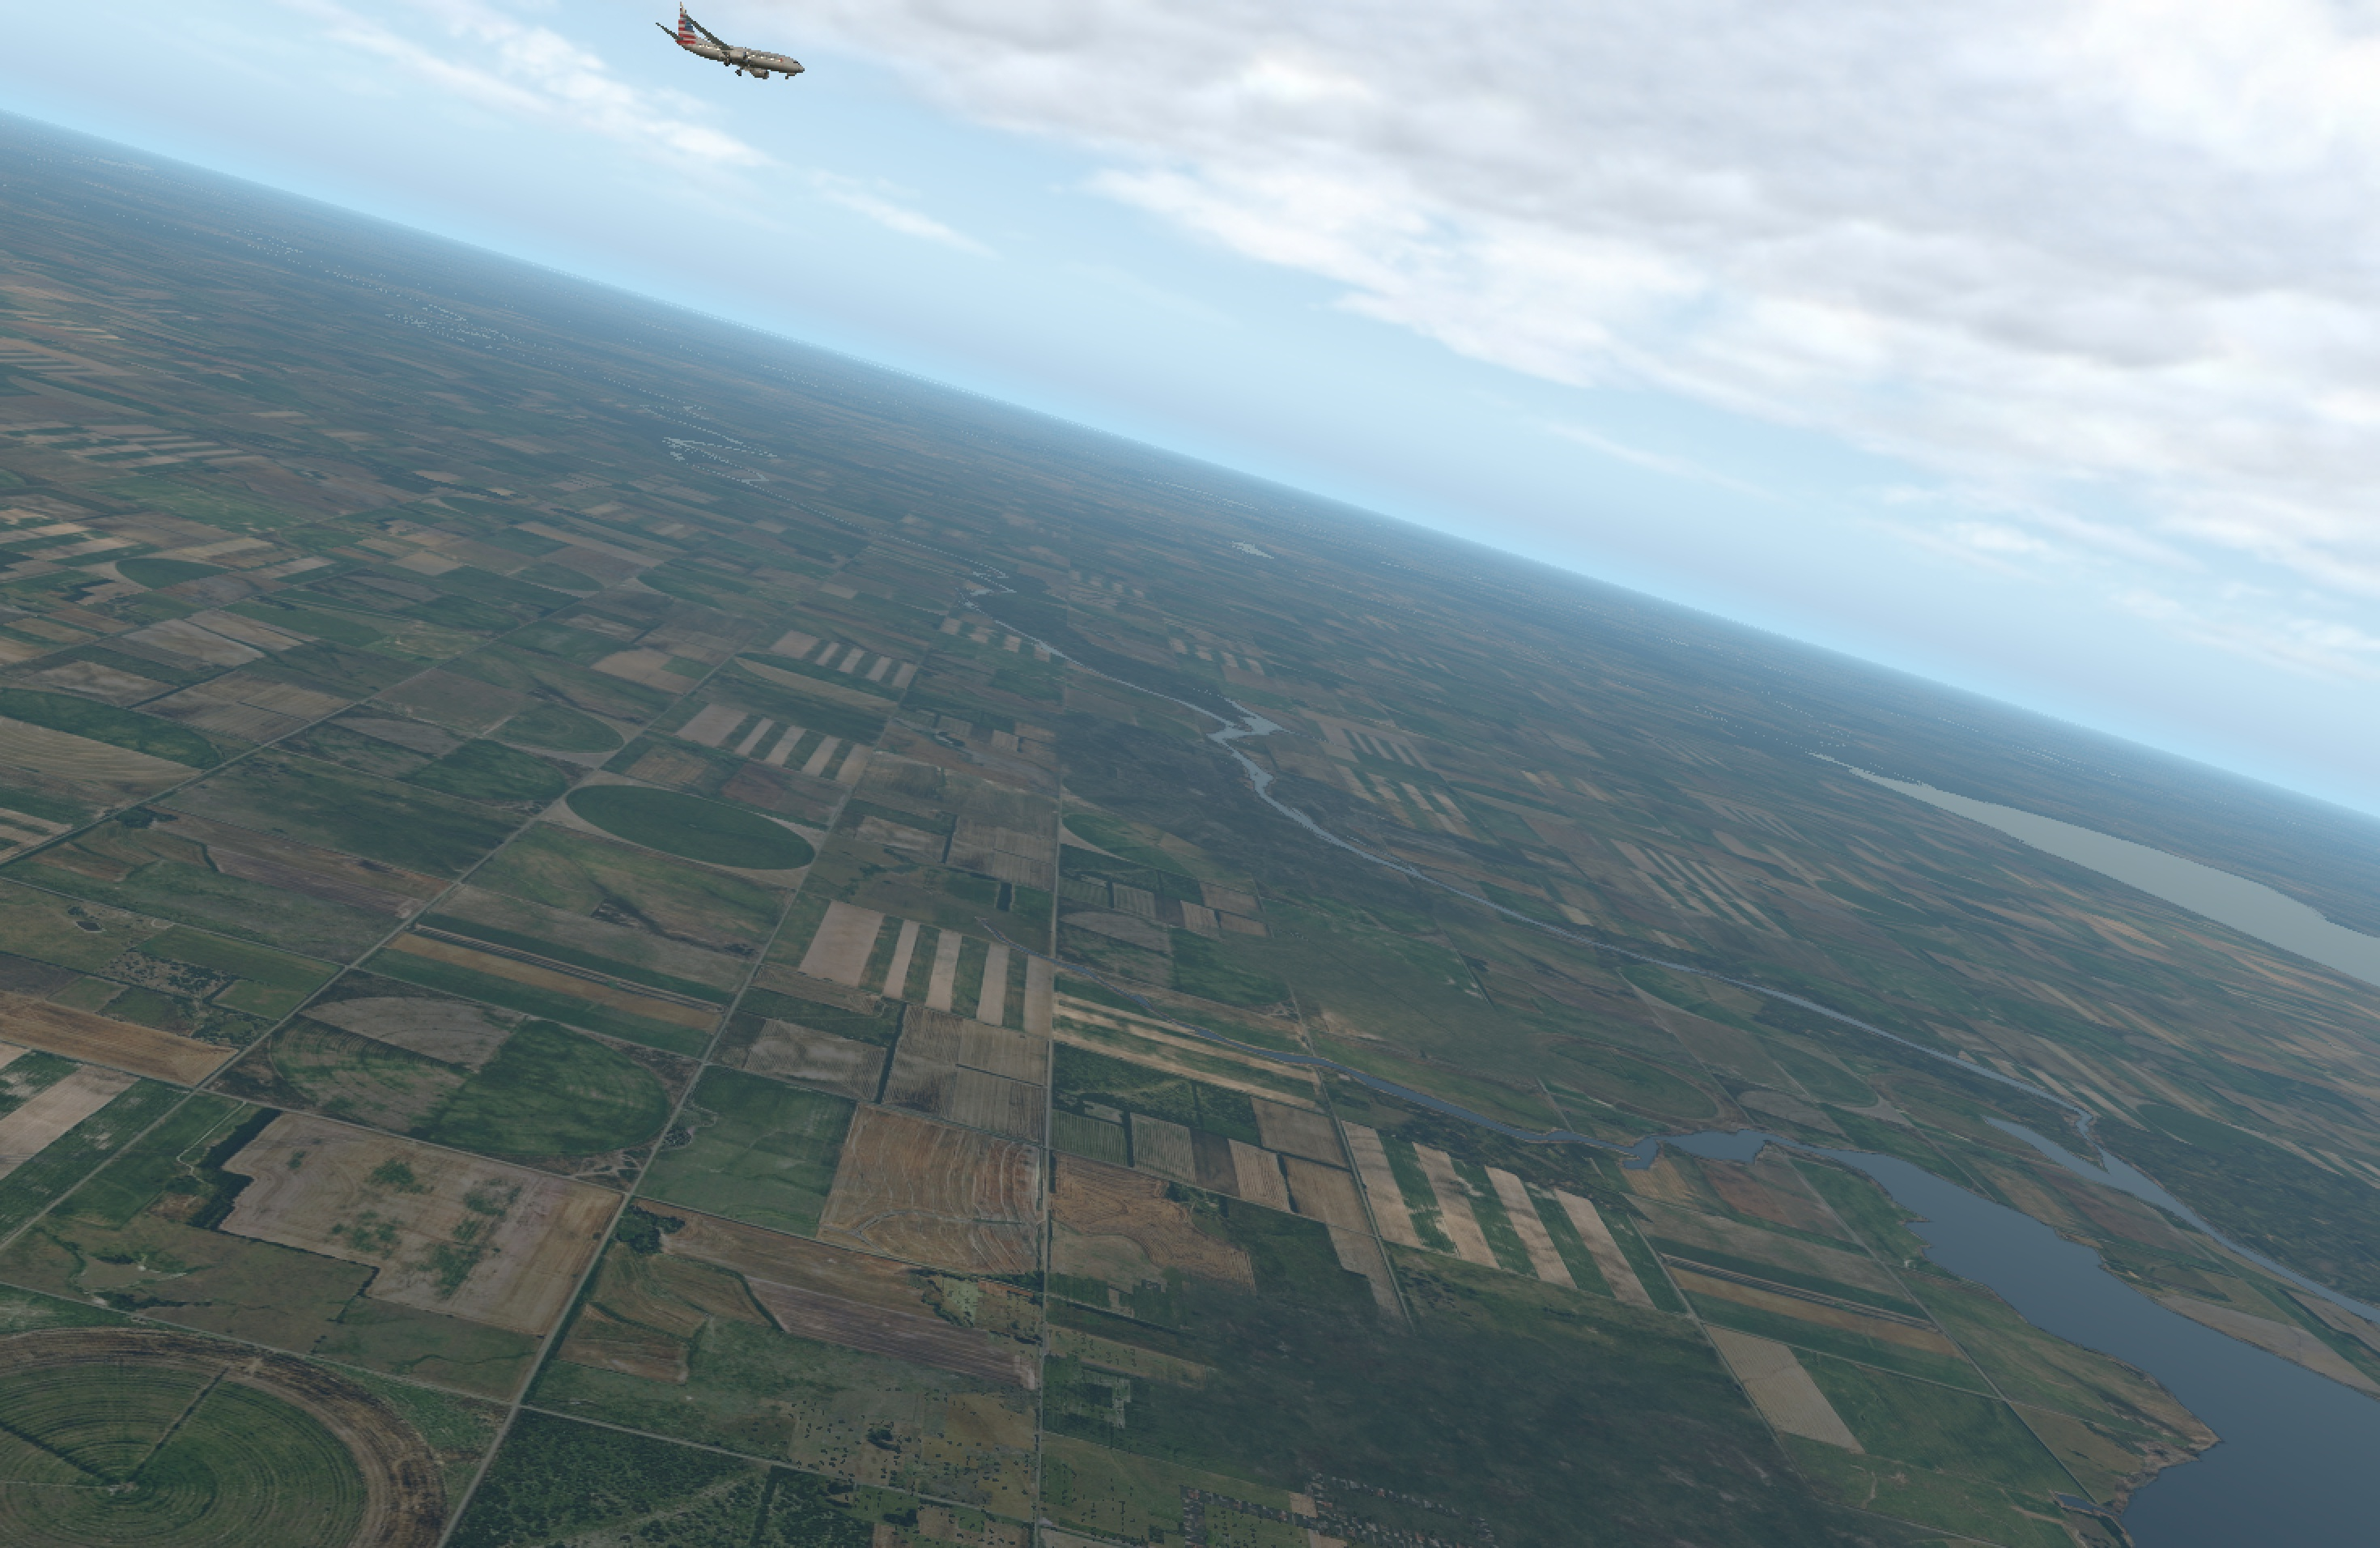aircraft: (664, 31, 815, 87)
